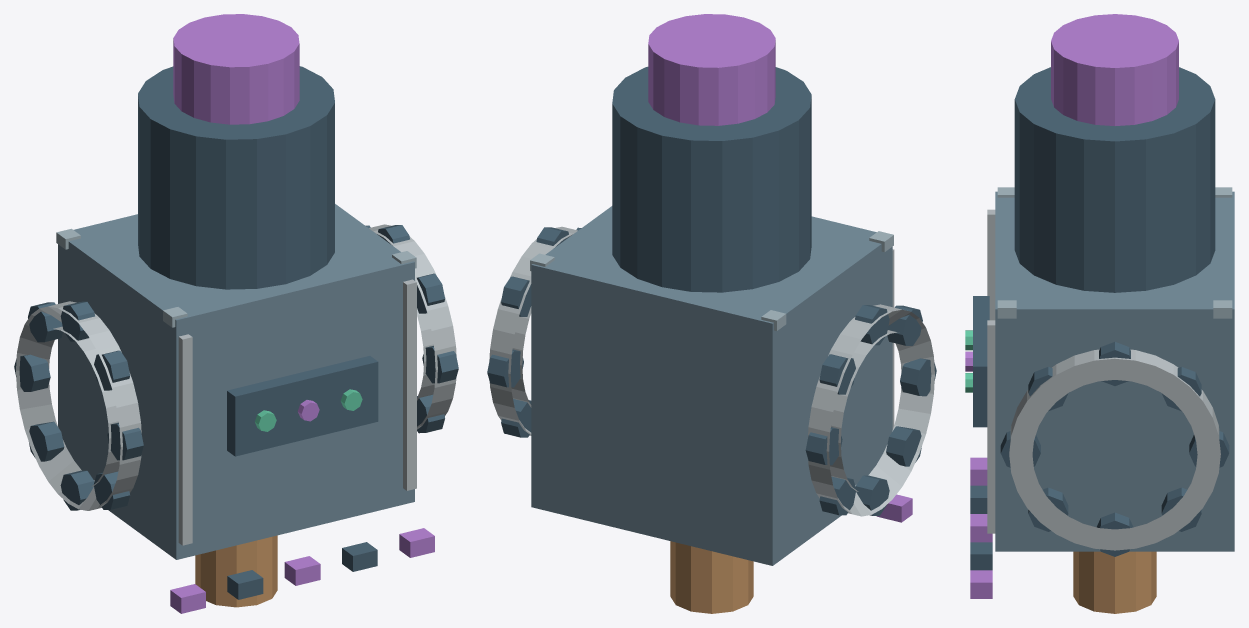
The model's file is 17_L72_HighSpeedPulseValveB.glb.
3 views of the same model, side by side, from view 1: azimuth 30°, elevation 25°; view 2: azimuth 150°, elevation 25°; view 3: azimuth 270°, elevation 25° (orthographic).
Visible parts, largest first — view 1: HighSpeedPulseValveB_Part_000, HighSpeedPulseValveB_Part_025, HighSpeedPulseValveB_Part_026, HighSpeedPulseValveB_Part_038, HighSpeedPulseValveB_Part_007, HighSpeedPulseValveB_Part_037, HighSpeedPulseValveB_Part_016, HighSpeedPulseValveB_Part_005, HighSpeedPulseValveB_Part_006, HighSpeedPulseValveB_Part_013, HighSpeedPulseValveB_Part_014, HighSpeedPulseValveB_Part_009 (+13 smaller); view 2: HighSpeedPulseValveB_Part_000, HighSpeedPulseValveB_Part_025, HighSpeedPulseValveB_Part_026, HighSpeedPulseValveB_Part_007, HighSpeedPulseValveB_Part_037, HighSpeedPulseValveB_Part_016, HighSpeedPulseValveB_Part_011, HighSpeedPulseValveB_Part_010, HighSpeedPulseValveB_Part_015, HighSpeedPulseValveB_Part_023, HighSpeedPulseValveB_Part_014, HighSpeedPulseValveB_Part_009 (+6 smaller); view 3: HighSpeedPulseValveB_Part_000, HighSpeedPulseValveB_Part_025, HighSpeedPulseValveB_Part_016, HighSpeedPulseValveB_Part_026, HighSpeedPulseValveB_Part_037, HighSpeedPulseValveB_Part_038, HighSpeedPulseValveB_Part_006, HighSpeedPulseValveB_Part_005, HighSpeedPulseValveB_Part_045, HighSpeedPulseValveB_Part_046, HighSpeedPulseValveB_Part_021, HighSpeedPulseValveB_Part_044 (+11 smaller).
Part boxes in pixels (x1,y1,x2,y2): HighSpeedPulseValveB_Part_000: (58, 204, 414, 559); HighSpeedPulseValveB_Part_025: (138, 66, 334, 289); HighSpeedPulseValveB_Part_026: (173, 14, 299, 124); HighSpeedPulseValveB_Part_038: (227, 356, 378, 456); HighSpeedPulseValveB_Part_007: (16, 301, 141, 510); HighSpeedPulseValveB_Part_037: (195, 535, 277, 607); HighSpeedPulseValveB_Part_016: (369, 224, 456, 429); HighSpeedPulseValveB_Part_005: (178, 334, 192, 545); HighSpeedPulseValveB_Part_006: (403, 279, 416, 490); HighSpeedPulseValveB_Part_013: (29, 421, 64, 461); HighSpeedPulseValveB_Part_014: (14, 354, 50, 391); HighSpeedPulseValveB_Part_009: (94, 350, 129, 390); HighSpeedPulseValveB_Part_000: (531, 206, 892, 565); HighSpeedPulseValveB_Part_025: (612, 66, 811, 292); HighSpeedPulseValveB_Part_026: (648, 14, 775, 125); HighSpeedPulseValveB_Part_007: (808, 304, 934, 516); HighSpeedPulseValveB_Part_037: (670, 541, 753, 613); HighSpeedPulseValveB_Part_016: (489, 226, 577, 435); HighSpeedPulseValveB_Part_011: (886, 426, 921, 466); HighSpeedPulseValveB_Part_010: (900, 358, 936, 396); HighSpeedPulseValveB_Part_015: (819, 354, 855, 394); HighSpeedPulseValveB_Part_023: (487, 349, 523, 387); HighSpeedPulseValveB_Part_014: (805, 427, 842, 465); HighSpeedPulseValveB_Part_009: (887, 305, 922, 345); HighSpeedPulseValveB_Part_000: (995, 191, 1234, 551); HighSpeedPulseValveB_Part_025: (1014, 67, 1215, 292); HighSpeedPulseValveB_Part_016: (1009, 349, 1220, 550); HighSpeedPulseValveB_Part_026: (1051, 14, 1178, 125); HighSpeedPulseValveB_Part_037: (1073, 551, 1156, 613); HighSpeedPulseValveB_Part_038: (973, 296, 989, 427); HighSpeedPulseValveB_Part_006: (987, 320, 995, 533); HighSpeedPulseValveB_Part_005: (987, 209, 995, 320); HighSpeedPulseValveB_Part_045: (970, 542, 992, 570); HighSpeedPulseValveB_Part_046: (970, 570, 992, 598); HighSpeedPulseValveB_Part_021: (1097, 512, 1133, 556); HighSpeedPulseValveB_Part_044: (970, 514, 992, 542).
Size of the model in its own units: 0.705 by 1.1 by 0.484.
